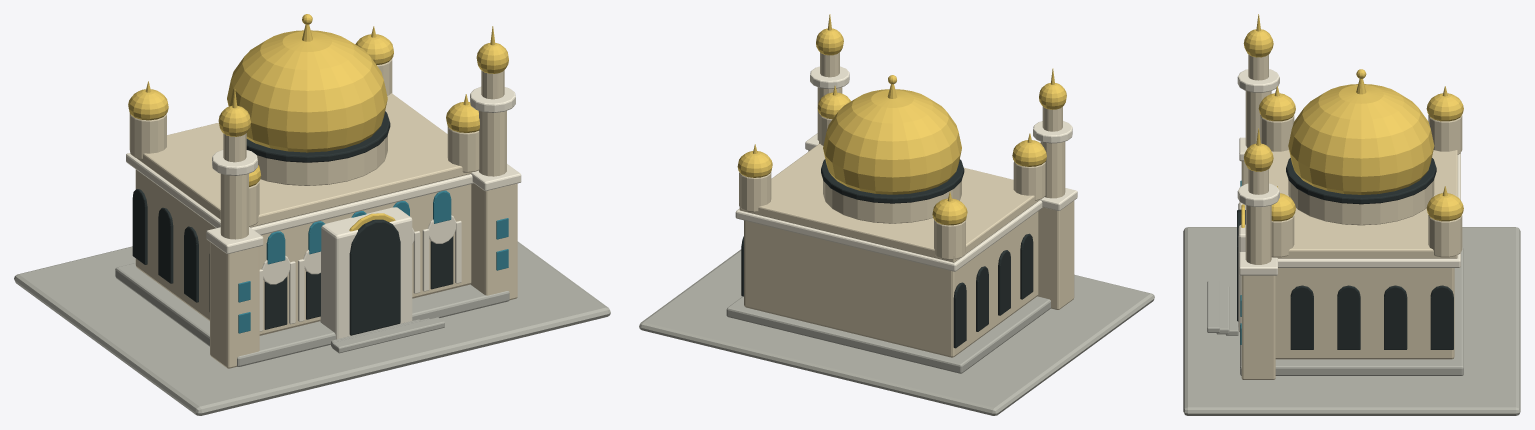
The model's file is sultan-mosque-v2.glb.
3 renders of one model, left to right at view 1: azimuth 30°, elevation 25°; view 2: azimuth 150°, elevation 25°; view 3: azimuth 270°, elevation 25°, orthographic. The views are drawn at different scales.
Parts seen in each view (by area): view 1: SULTAN MOSQUE · Warm plaster, Ground, SULTAN MOSQUE · Mosque gold, SULTAN MOSQUE · Chalk, SULTAN MOSQUE · Ink, SULTAN MOSQUE · Concrete, SULTAN MOSQUE · Graphic glass; view 2: SULTAN MOSQUE · Warm plaster, Ground, SULTAN MOSQUE · Mosque gold, SULTAN MOSQUE · Concrete, SULTAN MOSQUE · Ink, SULTAN MOSQUE · Chalk; view 3: SULTAN MOSQUE · Warm plaster, Ground, SULTAN MOSQUE · Mosque gold, SULTAN MOSQUE · Ink, SULTAN MOSQUE · Concrete, SULTAN MOSQUE · Chalk.
Boxes of the visible parts, x1=… form: SULTAN MOSQUE · Warm plaster: x1=129, y1=58, x2=517, y2=368; Ground: x1=14, y1=241, x2=610, y2=415; SULTAN MOSQUE · Mosque gold: x1=128, y1=14, x2=508, y2=231; SULTAN MOSQUE · Chalk: x1=126, y1=87, x2=521, y2=339; SULTAN MOSQUE · Ink: x1=132, y1=111, x2=453, y2=335; SULTAN MOSQUE · Concrete: x1=115, y1=263, x2=509, y2=366; SULTAN MOSQUE · Graphic glass: x1=238, y1=190, x2=508, y2=333; SULTAN MOSQUE · Warm plaster: x1=739, y1=52, x2=1074, y2=357; Ground: x1=639, y1=249, x2=1154, y2=415; SULTAN MOSQUE · Mosque gold: x1=737, y1=14, x2=1066, y2=225; SULTAN MOSQUE · Concrete: x1=726, y1=296, x2=1050, y2=373; SULTAN MOSQUE · Ink: x1=741, y1=159, x2=1033, y2=348; SULTAN MOSQUE · Chalk: x1=735, y1=66, x2=1077, y2=271; SULTAN MOSQUE · Warm plaster: x1=1241, y1=54, x2=1462, y2=379; Ground: x1=1183, y1=227, x2=1520, y2=415; SULTAN MOSQUE · Mosque gold: x1=1241, y1=14, x2=1463, y2=227; SULTAN MOSQUE · Ink: x1=1237, y1=158, x2=1453, y2=349; SULTAN MOSQUE · Concrete: x1=1207, y1=247, x2=1463, y2=375; SULTAN MOSQUE · Chalk: x1=1237, y1=69, x2=1460, y2=331.
Bounding box in the file's own units: 14 × 9.09 × 10.85.
1 material, 1 textured.
